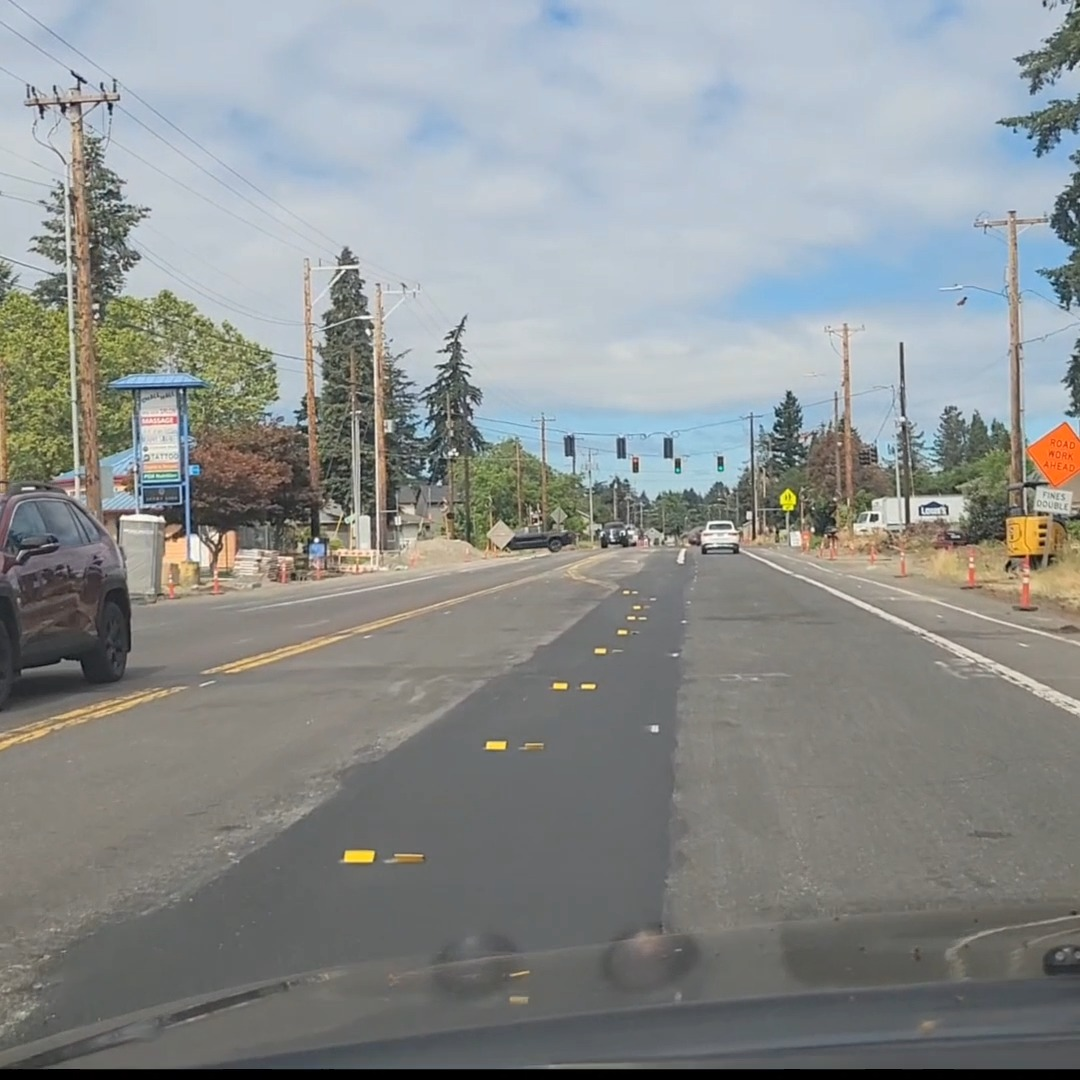car: (0, 479, 131, 707), (698, 520, 741, 554), (599, 521, 637, 548)
crosswalk-sign: (778, 488, 796, 512)
delineator: (1012, 557, 1037, 610), (960, 547, 982, 589), (894, 543, 909, 577), (407, 542, 420, 567), (310, 557, 324, 579), (210, 571, 222, 594), (168, 563, 180, 584), (867, 541, 877, 564), (827, 537, 837, 560), (278, 560, 287, 583), (801, 530, 810, 552), (846, 537, 855, 556), (816, 535, 823, 556)
